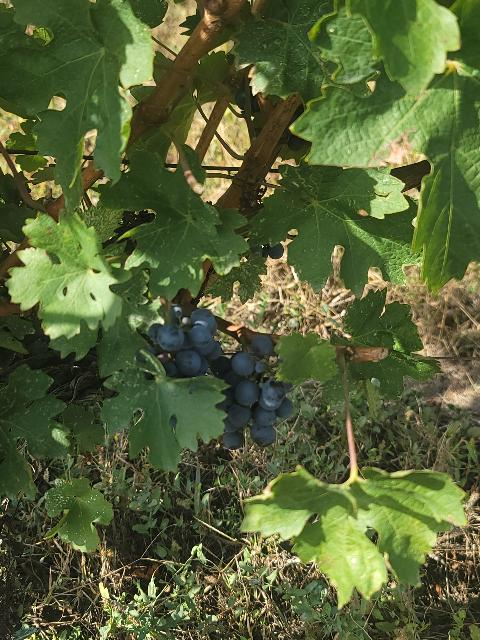grapes: (210, 335, 294, 449), (148, 306, 221, 378)
